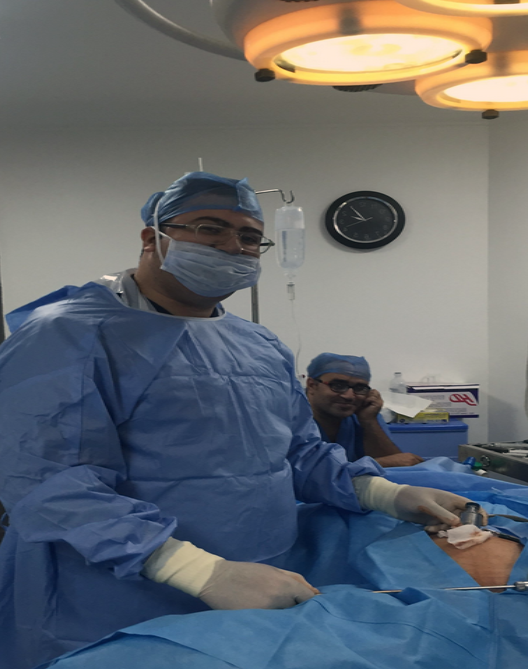mask_weared_incorrect: (139, 176, 282, 302)
